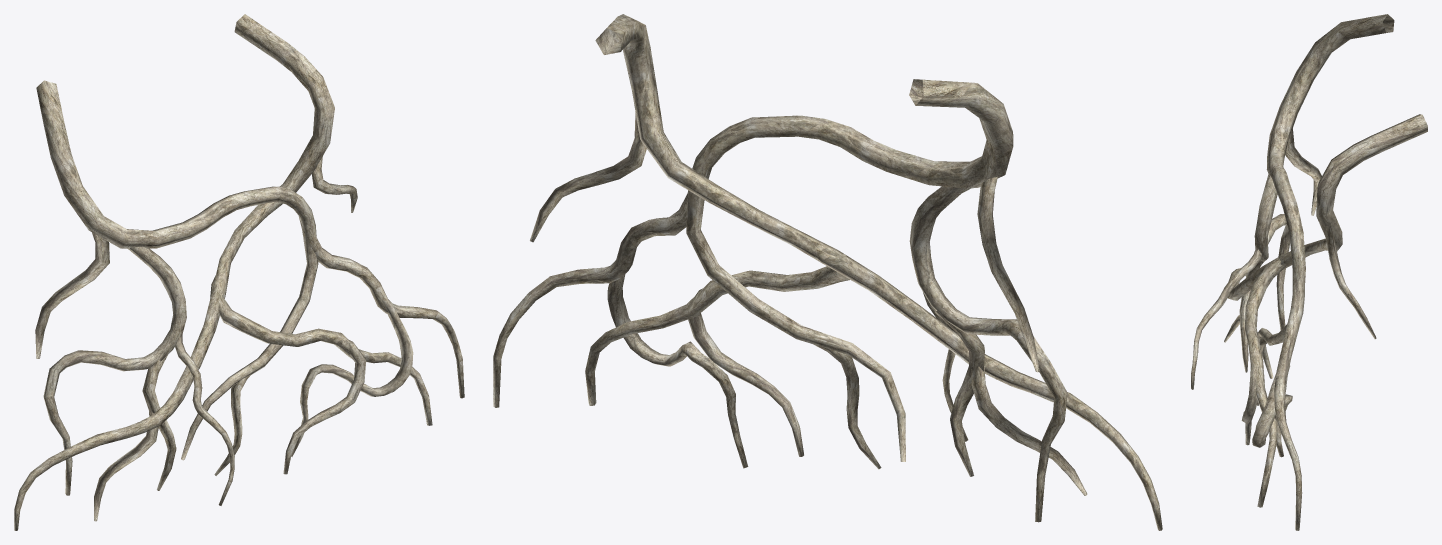
The model's file is roots_desert.dae.
3 views of the same model, side by side, from view 1: azimuth 30°, elevation 25°; view 2: azimuth 150°, elevation 25°; view 3: azimuth 270°, elevation 25° (orthographic). The views are drawn at different scales.
Visible parts, largest first — view 1: Mesh; view 2: Mesh; view 3: Mesh.
Boxes of the visible parts, x1,y1,x2,y2 form: Mesh: (14,14,464,530); Mesh: (493,14,1162,530); Mesh: (1191,14,1427,530).
Size of the model in its own units: 3.95 by 3.02 by 1.82.
